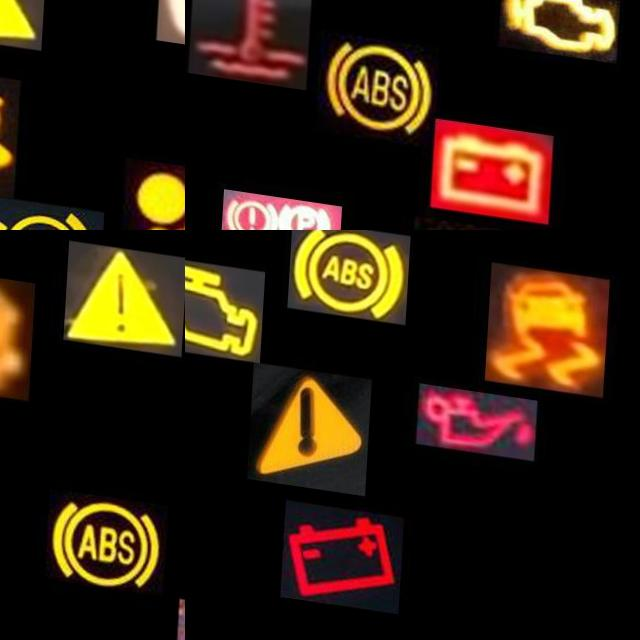Central Warning lamp: (250, 355, 374, 485), (65, 230, 185, 342)
Engine cooling system: (190, 0, 312, 81)
